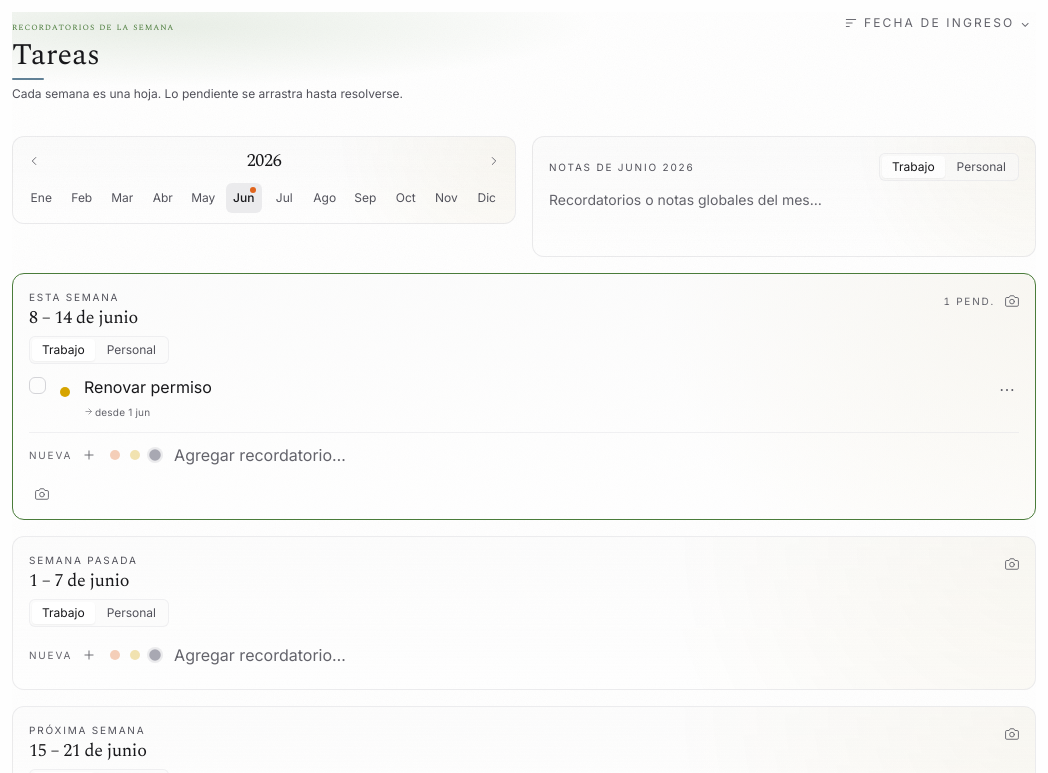
<TareasView /> › arrastra pendientes no resueltos al primer cuadro cuando se navega a un mes futuro
Expected: the text "Renovar permiso" is shown, [84,377,212,397]
Click the button with aria-label "mes jul" at {"x": 284, "y": 198}, box [266,182,302,212]
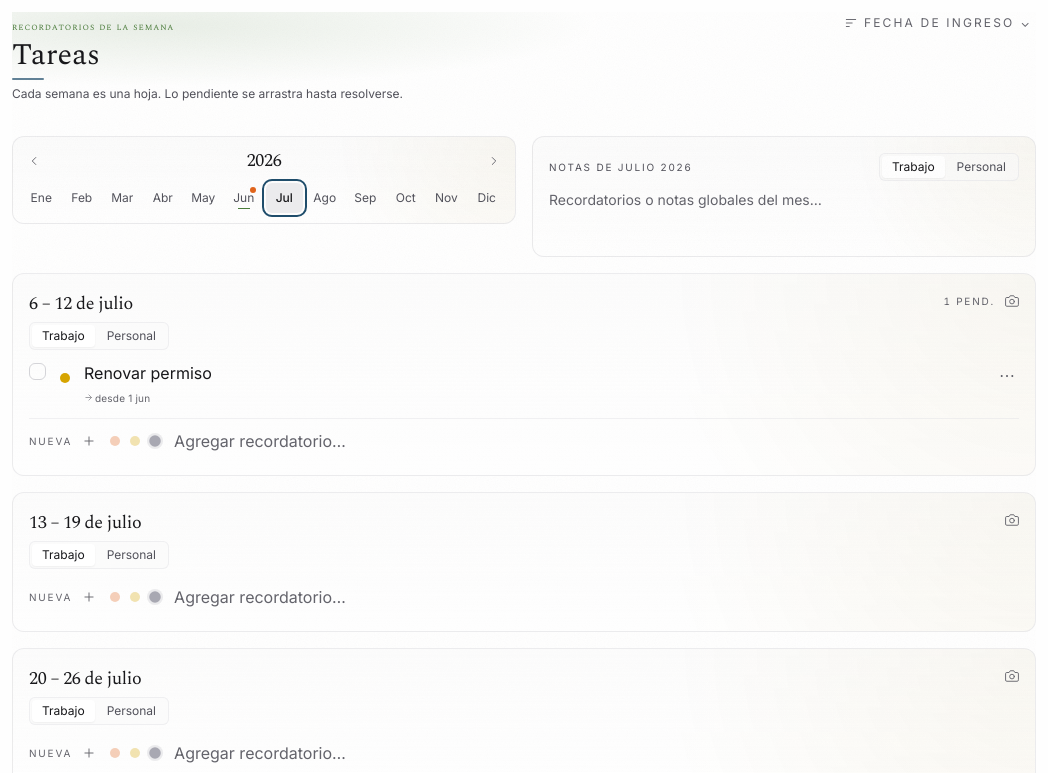
Expected: the text "Renovar permiso" is shown, [84,363,212,383]
Now the text "6 – 12 de julio" is shown, box [29,290,133,317]
